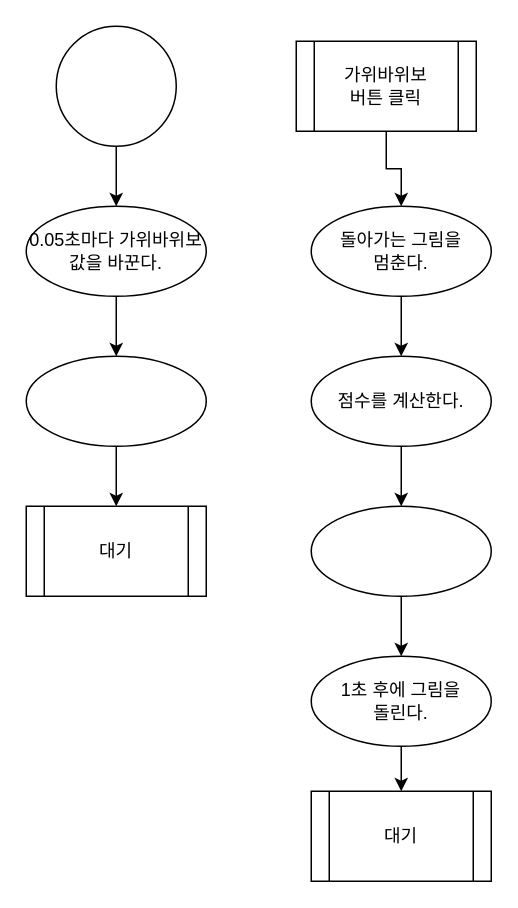
The diagram is 518 pixels wide and 908 high, and some of its shapes have lost their labels. The centre of each missing label's shape, as x and y in pixels:
값에 따라 그림을 바꾼다.: point (115, 400)
시작: point (115, 85)
점수를 표시한다.: point (400, 550)
